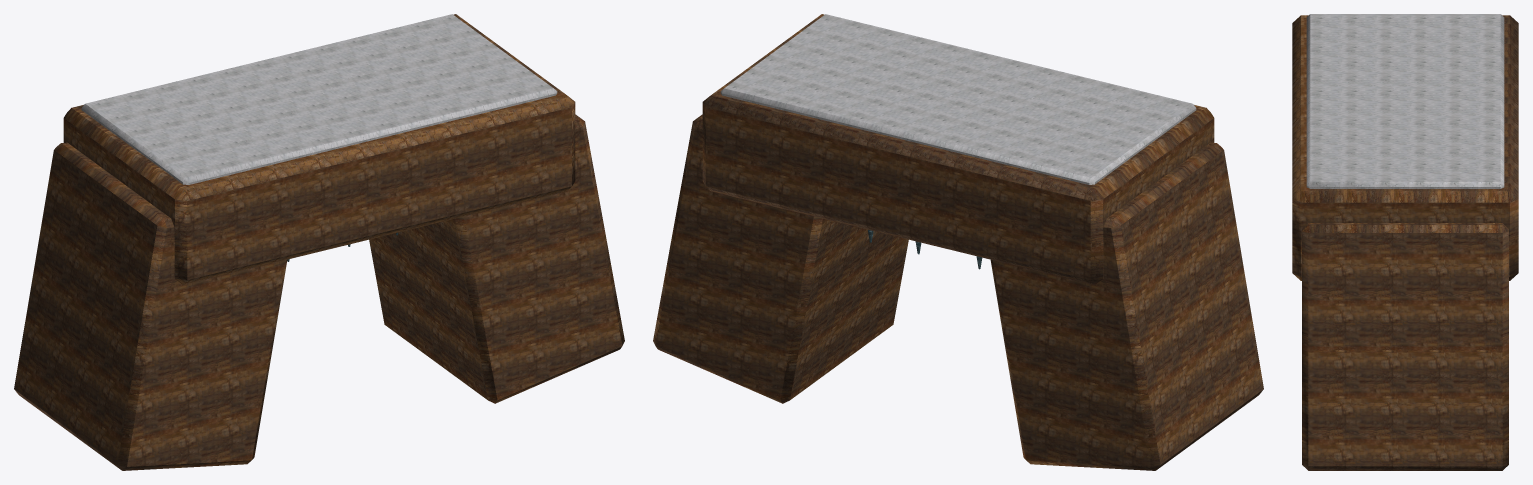
Rendered from env_ice_cave_arch.glb.
3 views of the same model, side by side, from view 1: azimuth 30°, elevation 25°; view 2: azimuth 150°, elevation 25°; view 3: azimuth 270°, elevation 25° (orthographic). The views are drawn at different scales.
Parts seen in each view (by area): view 1: ENV_Frostheim_IceCaveArch; view 2: ENV_Frostheim_IceCaveArch; view 3: ENV_Frostheim_IceCaveArch.
Boxes of the visible parts, left/top/right/bottom form: ENV_Frostheim_IceCaveArch: left=14, top=14, right=624, bottom=470; ENV_Frostheim_IceCaveArch: left=653, top=14, right=1263, bottom=470; ENV_Frostheim_IceCaveArch: left=1292, top=14, right=1518, bottom=470.
Size of what is drawn, in the model's own units: 11.66 by 6.59 by 4.8.
3 materials, 3 textured.
